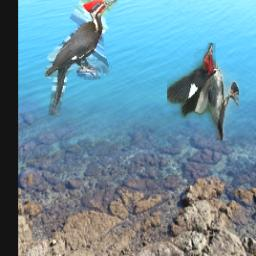Woodpecker: (44, 0, 117, 117), (166, 43, 238, 141)
